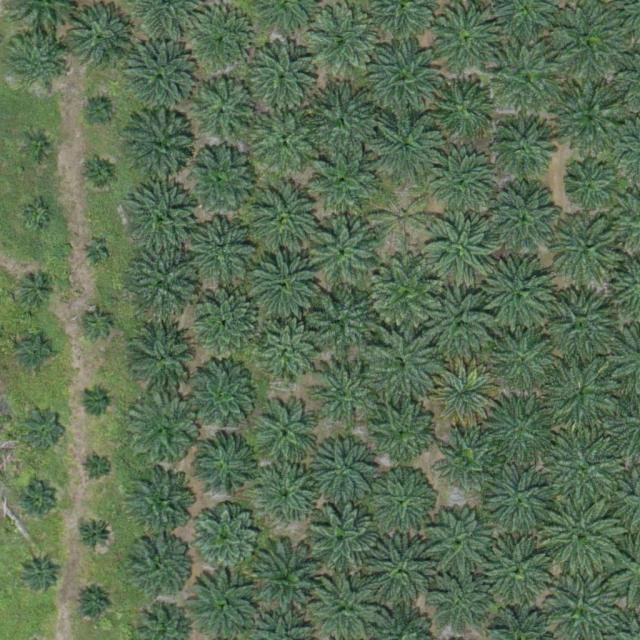Healthy: (251, 541, 329, 620), (553, 81, 631, 160), (543, 357, 621, 436), (546, 431, 624, 510), (241, 35, 319, 114), (543, 496, 621, 574), (482, 257, 553, 328), (251, 104, 322, 175), (305, 287, 376, 358), (304, 85, 375, 156), (430, 3, 501, 74), (365, 397, 436, 468), (553, 214, 623, 285), (554, 6, 624, 77), (544, 292, 615, 362), (490, 326, 560, 397), (484, 394, 554, 465), (128, 184, 198, 255), (187, 145, 257, 216), (310, 220, 381, 290), (308, 4, 378, 75), (371, 41, 441, 112), (372, 111, 442, 182), (370, 258, 441, 328), (426, 212, 496, 283), (430, 152, 500, 223), (492, 40, 562, 111), (490, 185, 560, 256), (427, 507, 498, 577), (186, 363, 257, 433), (190, 503, 260, 574), (126, 472, 196, 543), (130, 398, 200, 469), (367, 537, 437, 607), (484, 464, 554, 534), (483, 534, 553, 604), (63, 4, 133, 74), (127, 45, 197, 115), (127, 115, 197, 185), (129, 248, 199, 318), (129, 320, 199, 390), (192, 74, 262, 144), (183, 4, 253, 74), (253, 182, 323, 252), (251, 249, 321, 319), (308, 147, 378, 217), (425, 289, 495, 359), (368, 332, 438, 402), (311, 360, 381, 430), (308, 505, 378, 575), (197, 290, 260, 353), (129, 533, 192, 596), (195, 219, 257, 282), (258, 324, 320, 387), (432, 79, 494, 142), (494, 115, 556, 178), (372, 473, 434, 536), (314, 438, 376, 501), (256, 406, 318, 469), (257, 464, 319, 527), (197, 435, 259, 498), (432, 578, 487, 633), (10, 36, 65, 91), (440, 433, 495, 488), (565, 163, 612, 210)
Small: (22, 406, 69, 453), (19, 272, 58, 312), (19, 485, 59, 524), (20, 554, 59, 594), (75, 516, 115, 555), (19, 333, 58, 372), (74, 586, 113, 625), (83, 308, 114, 340), (81, 386, 112, 418), (23, 201, 54, 232), (24, 133, 55, 164), (83, 453, 114, 484), (85, 96, 116, 127), (85, 160, 116, 191), (84, 242, 108, 266)
Yellow: (429, 361, 500, 432), (372, 188, 435, 251)
